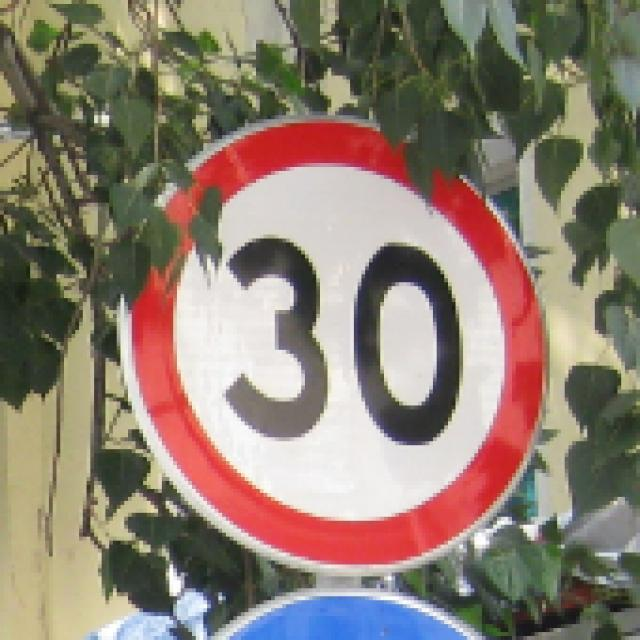speed limit 30: (117, 117, 545, 574)
